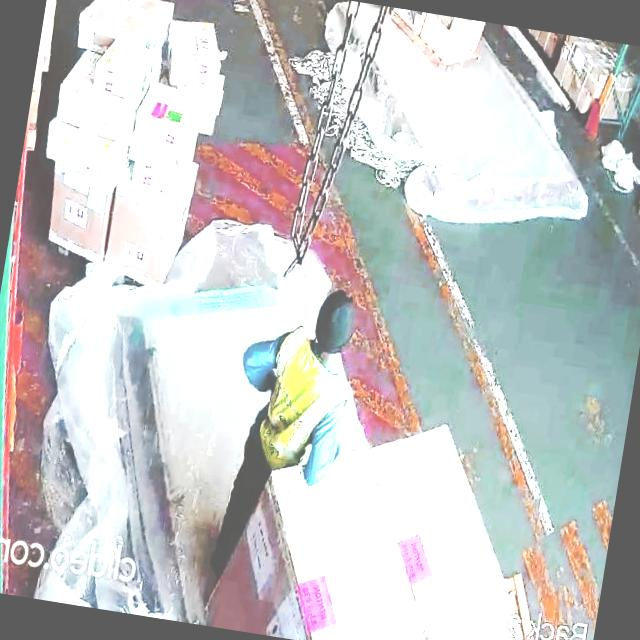Box: (368, 421, 547, 640), (241, 430, 398, 640), (102, 183, 194, 278), (43, 172, 116, 260), (77, 0, 173, 53), (168, 13, 228, 88), (131, 83, 197, 149), (50, 90, 126, 138), (44, 130, 120, 174), (100, 40, 153, 92)
